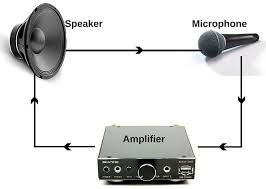microphone: (194, 30, 260, 60)
speaker: (7, 2, 67, 83)
